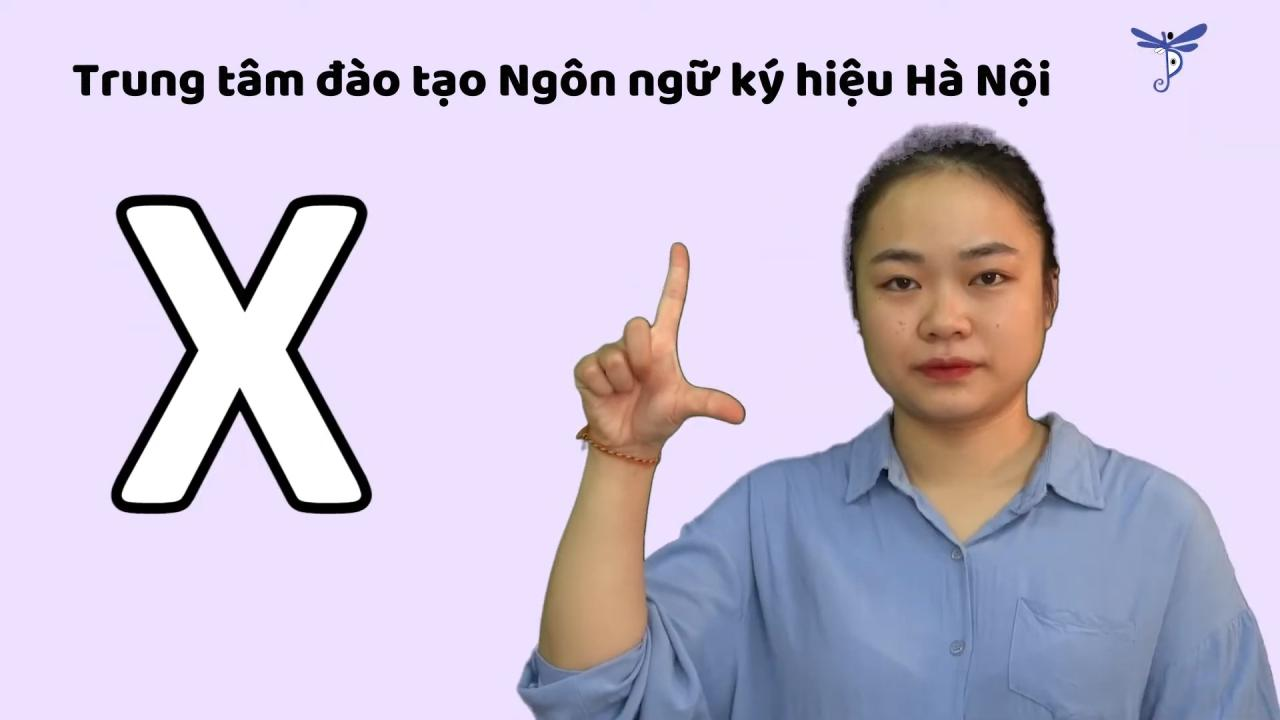L: (574, 233, 750, 464)
